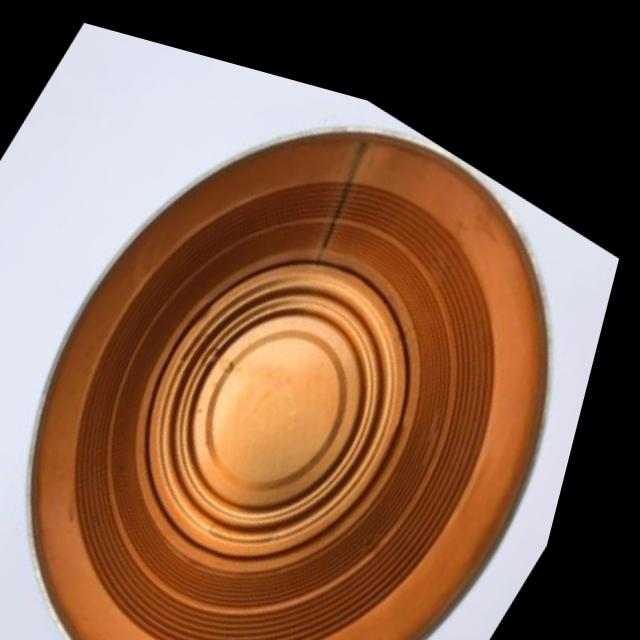metal: (0, 7, 640, 640)
